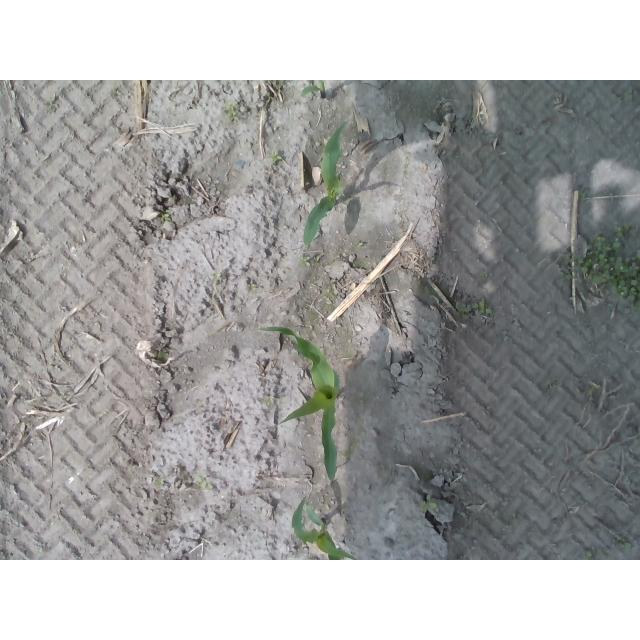Maize: (258, 326, 341, 482), (303, 120, 345, 249), (292, 496, 356, 560), (302, 80, 327, 100)
Weeds: (562, 222, 640, 311), (455, 298, 498, 318), (226, 100, 243, 120), (420, 495, 437, 514), (299, 257, 321, 268), (196, 478, 214, 490), (269, 151, 283, 161), (162, 213, 174, 224), (247, 280, 257, 288)
